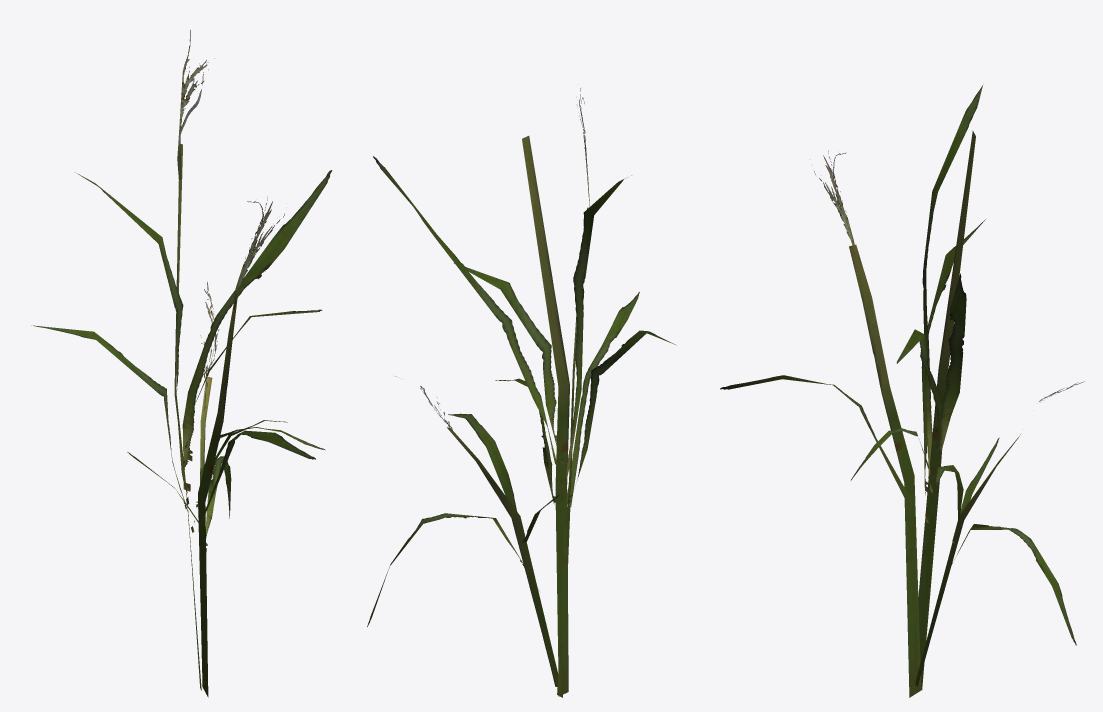
File: grass_medium_01_tall_a.gltf
3 views of the same model, side by side, from view 1: azimuth 30°, elevation 25°; view 2: azimuth 150°, elevation 25°; view 3: azimuth 270°, elevation 25° (orthographic). The views are drawn at different scales.
Visible parts, largest first — view 1: grass_medium_01_tall_a__x; view 2: grass_medium_01_tall_a__x; view 3: grass_medium_01_tall_a__x.
Boxes of the visible parts, x1,y1,x2,y2 form: grass_medium_01_tall_a__x: (31,30,332,697); grass_medium_01_tall_a__x: (367,88,675,697); grass_medium_01_tall_a__x: (720,85,1084,697).
Bounding box in the file's own units: 0.1611 × 0.3257 × 0.1586.
Materials: 1 (1 with a texture image).
